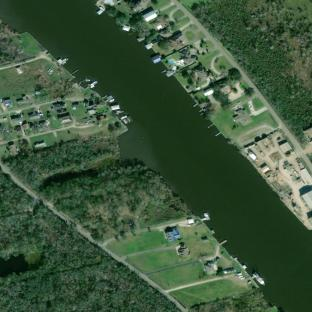Floresta: (0, 173, 179, 312), (191, 0, 312, 133), (42, 165, 189, 236), (4, 135, 118, 188), (39, 159, 157, 205), (192, 286, 267, 311)
